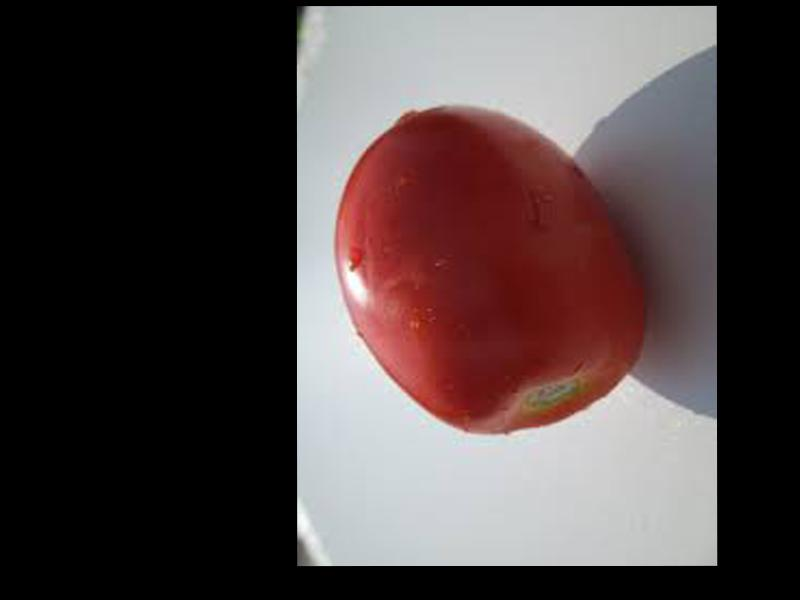Tomato: (333, 107, 643, 433)
